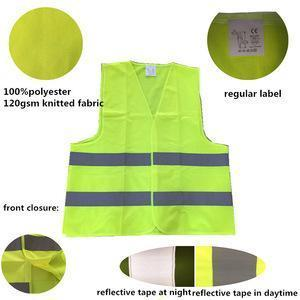vest: (61, 60, 236, 239)
